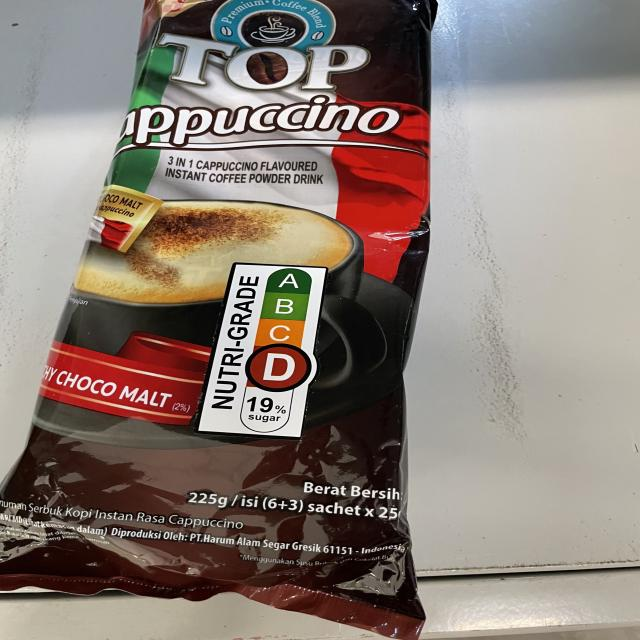object_name: (31, 8, 406, 612)
